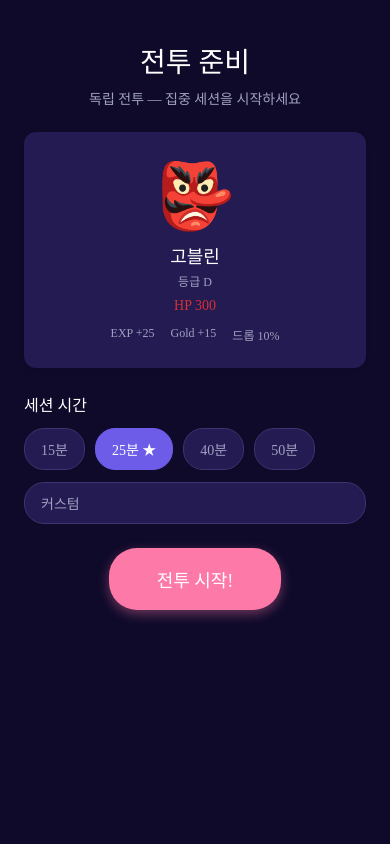
BattleScreen › SETUP phase › shows custom stepper when 커스텀 is toggled
Click the text "커스텀".
click(60, 504)  # box [41, 497, 80, 512]
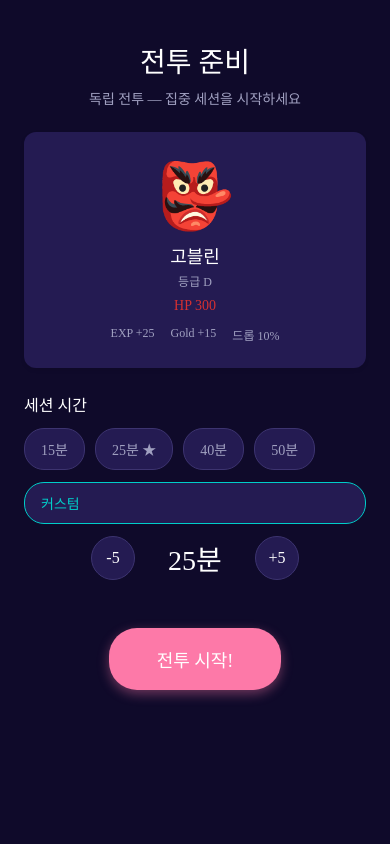
Now the text "+5" is shown, box [268, 549, 286, 567]
Now the text "-5" is shown, box [106, 549, 120, 567]
